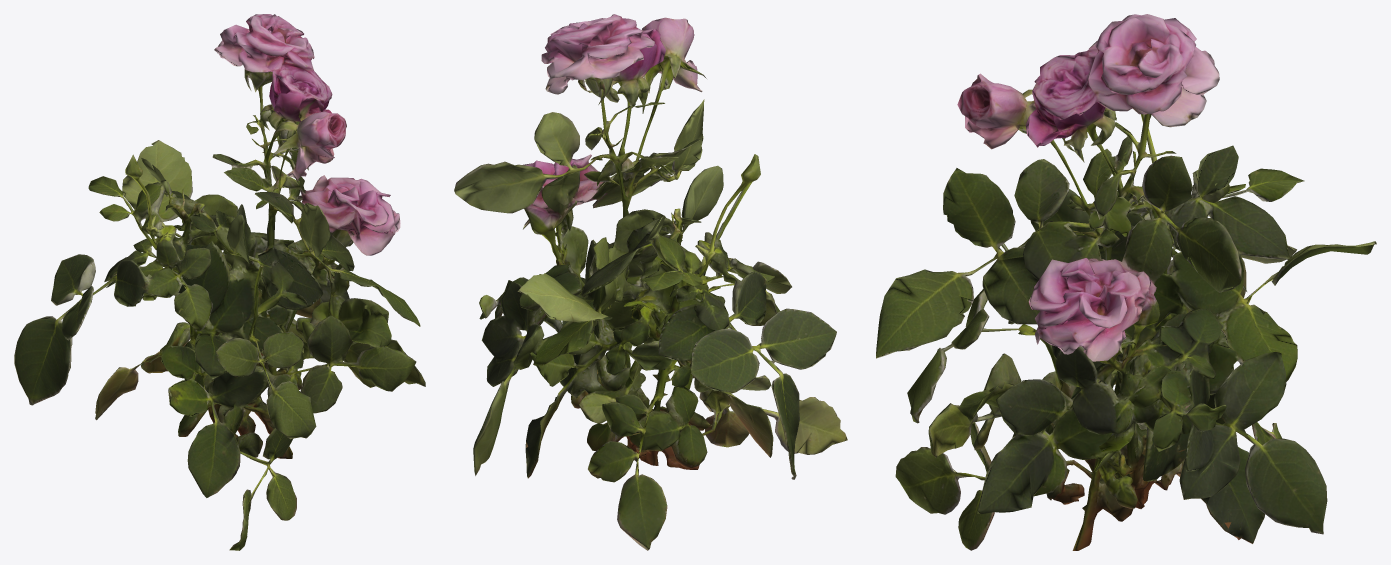
File: rose.glb
The picture shows the model from 3 angles, left to right: view 1: azimuth 30°, elevation 25°; view 2: azimuth 150°, elevation 25°; view 3: azimuth 270°, elevation 25°; orthographic projection. The views are drawn at different scales.
Visible parts, largest first — view 1: Object_2; view 2: Object_2; view 3: Object_2.
Part boxes in pixels (box(x1,y1,x2,y2)): Object_2: box(14, 14, 425, 550); Object_2: box(454, 14, 847, 550); Object_2: box(876, 14, 1376, 550).
Size of the model in its own units: 3.14 by 4.1 by 3.33.
1 material, 1 textured.
